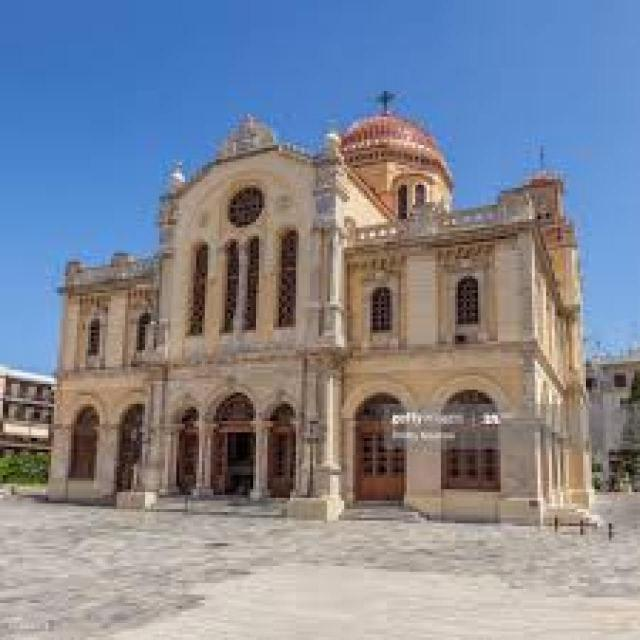Agios Minas: (50, 76, 600, 532)
